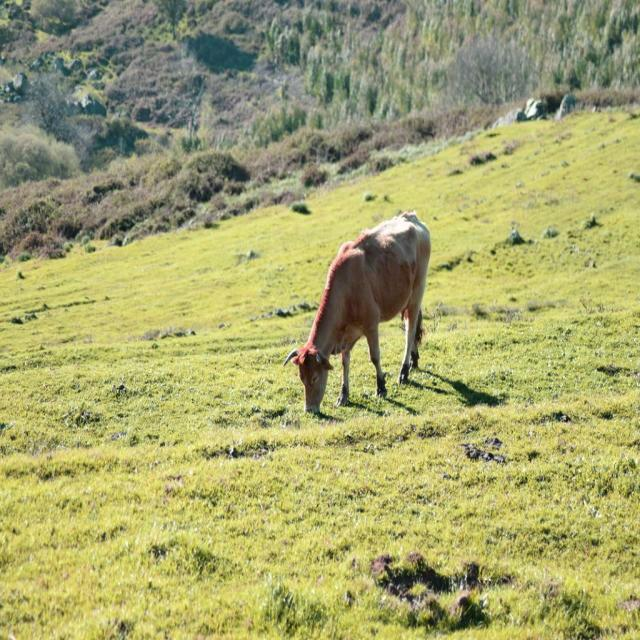cow: (285, 212, 431, 412)
